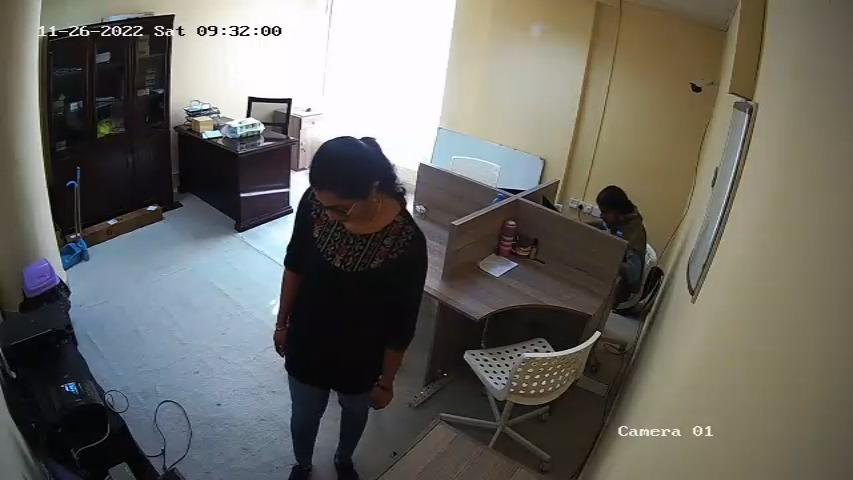no_apron: (289, 226, 386, 363)
